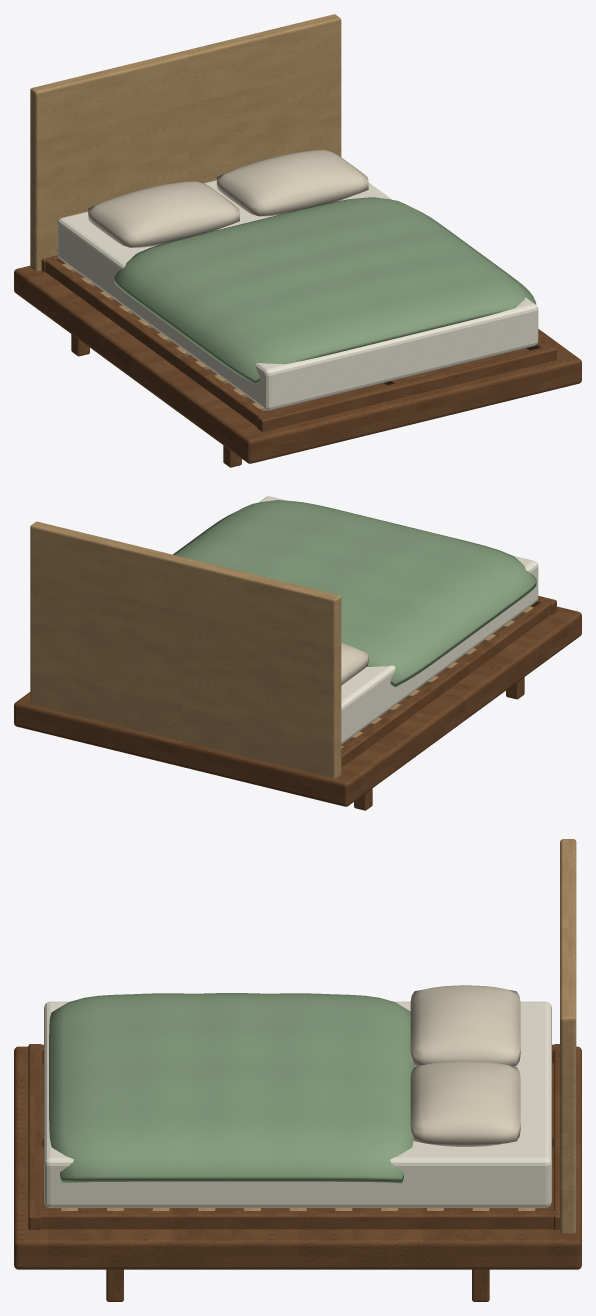
The model's file is bed.glb.
3 views of the same model, one above another, from view 1: azimuth 30°, elevation 25°; view 2: azimuth 150°, elevation 25°; view 3: azimuth 270°, elevation 25° (orthographic). The views are drawn at different scales.
Visible parts, largest first — view 1: Quilted closed duvet, Bed headboard, Wide platform perimeter, Nominal dimensioned mattress, Plump pillow with closed seams, Plump pillow with closed seams.001, Bed end rail, Bed side rail; view 2: Bed headboard, Quilted closed duvet, Wide platform perimeter, Nominal dimensioned mattress, Bed side rail, Plump pillow with closed seams; view 3: Quilted closed duvet, Wide platform perimeter, Nominal dimensioned mattress, Bed side rail.001, Plump pillow with closed seams.001, Plump pillow with closed seams, Bed headboard, Bed end rail, Bed end rail.001, Rounded furniture foot.002, Rounded furniture foot.003.
Part boxes in pixels (bbox=[...]): Quilted closed duvet: bbox=[114, 197, 536, 384]; Bed headboard: bbox=[30, 14, 341, 271]; Wide platform perimeter: bbox=[14, 265, 581, 463]; Nominal dimensioned mattress: bbox=[57, 180, 538, 410]; Plump pillow with closed seams: bbox=[88, 181, 239, 247]; Plump pillow with closed seams.001: bbox=[216, 150, 368, 216]; Bed end rail: bbox=[257, 345, 556, 431]; Bed side rail: bbox=[45, 257, 269, 426]; Bed headboard: bbox=[30, 521, 341, 778]; Quilted closed duvet: bbox=[173, 500, 536, 687]; Wide platform perimeter: bbox=[14, 606, 581, 806]; Nominal dimensioned mattress: bbox=[259, 496, 538, 744]; Bed side rail: bbox=[341, 598, 552, 767]; Plump pillow with closed seams: bbox=[341, 642, 368, 685]; Quilted closed duvet: bbox=[49, 993, 414, 1183]; Wide platform perimeter: bbox=[14, 1046, 581, 1269]; Nominal dimensioned mattress: bbox=[44, 1001, 551, 1207]; Bed side rail.001: bbox=[40, 1210, 555, 1229]; Plump pillow with closed seams.001: bbox=[410, 1060, 520, 1146]; Plump pillow with closed seams: bbox=[410, 985, 520, 1066]; Bed headboard: bbox=[560, 839, 576, 1233]; Bed end rail: bbox=[28, 1044, 41, 1229]; Bed end rail.001: bbox=[554, 1044, 559, 1229]; Rounded furniture foot.002: bbox=[106, 1269, 123, 1301]; Rounded furniture foot.003: bbox=[472, 1269, 489, 1301].
Bounding box in the file's own units: 1.86 × 1.27 × 2.27.
5 materials, 5 textured.
